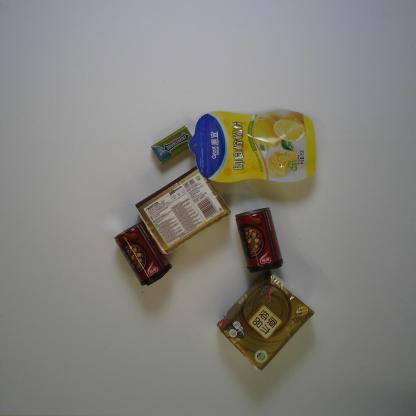Canned Food: (113, 220, 172, 287), (235, 206, 283, 274)
Dried Fruit: (188, 107, 317, 186)
Gum: (149, 124, 192, 166)
Tissue: (214, 270, 317, 371), (133, 165, 232, 254)
